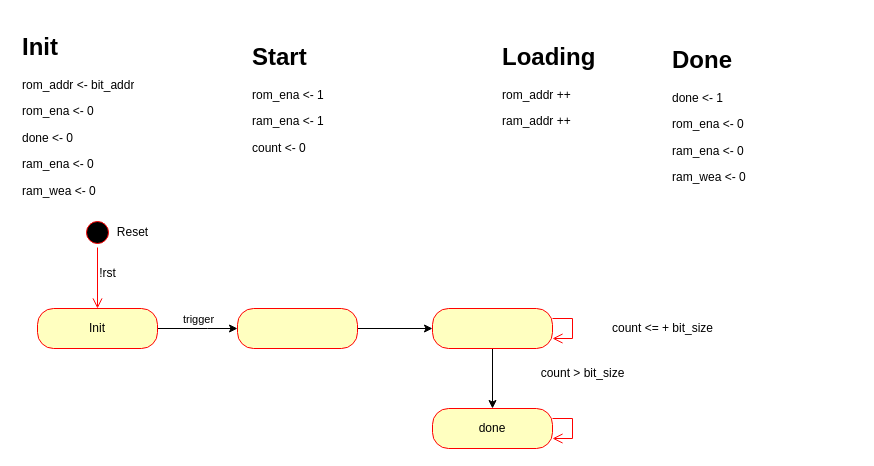
This 874x466 diagram has some shape labels left out. The shapes that lost their labels are listed below. From the top down, each one's box as (x1, y1, x2, y2) in pixels, then its label:
(236, 308, 358, 348): Start
(432, 308, 552, 348): Loading
